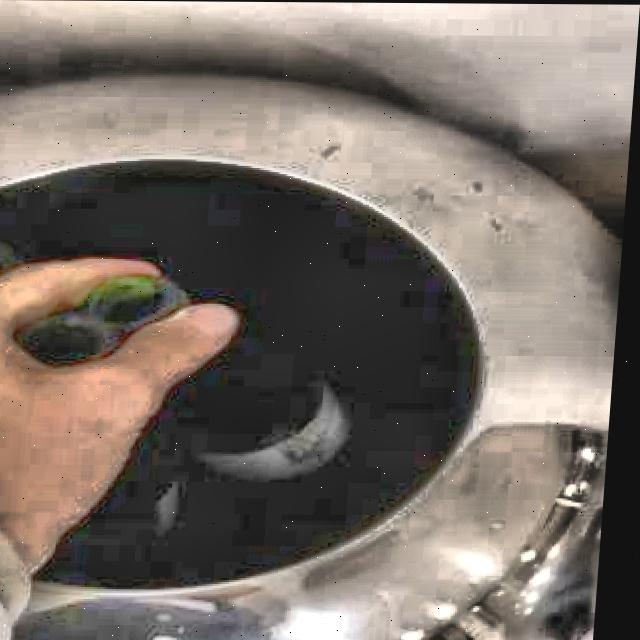glass: (78, 353, 353, 540), (21, 275, 196, 368), (0, 243, 25, 277)
